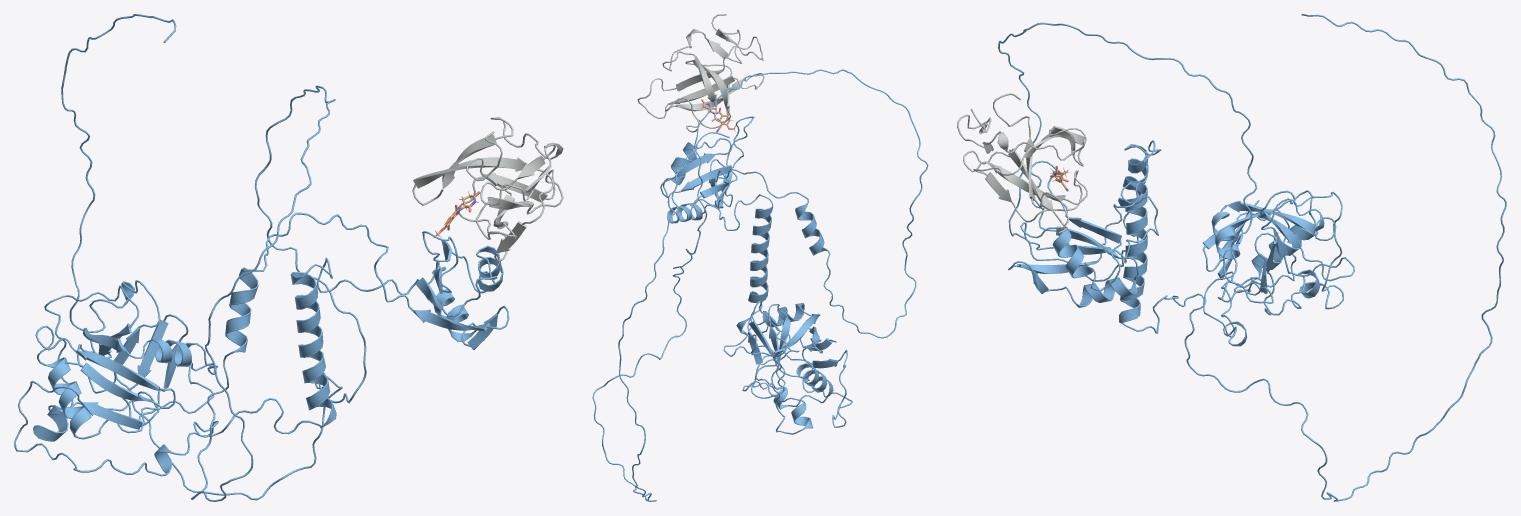
3 views of the same model, side by side, from view 1: azimuth 30°, elevation 25°; view 2: azimuth 150°, elevation 25°; view 3: azimuth 270°, elevation 25° (orthographic). The views are drawn at different scales.
Visible parts, largest first — view 1: node-geom59, node-geom60; view 2: node-geom59, node-geom60; view 3: node-geom59, node-geom60.
Part boxes in pixels (box(x1,y1,x2,y2)): node-geom59: box(14, 117, 563, 476); node-geom60: box(61, 14, 509, 501); node-geom59: box(637, 14, 852, 434); node-geom60: box(592, 69, 928, 501); node-geom59: box(957, 93, 1354, 346); node-geom60: box(998, 14, 1506, 501).
Bounding box in the file's own units: 96.72 × 113 × 125.
